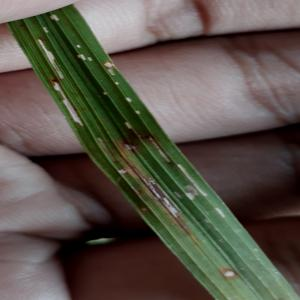1 RiceBlast: (136, 168, 186, 232), (141, 126, 187, 170), (32, 34, 71, 84), (52, 82, 90, 131), (112, 131, 151, 164), (95, 130, 119, 170), (134, 198, 161, 219)
